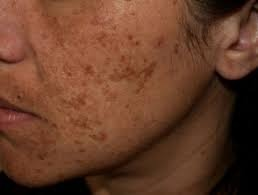Melasma: (21, 3, 160, 158)
